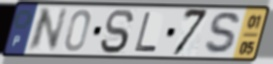0: (63, 9, 92, 54)
7: (170, 7, 211, 59)
L: (133, 11, 159, 54)
N: (24, 7, 70, 54)
S: (202, 10, 243, 57), (98, 8, 136, 56)
